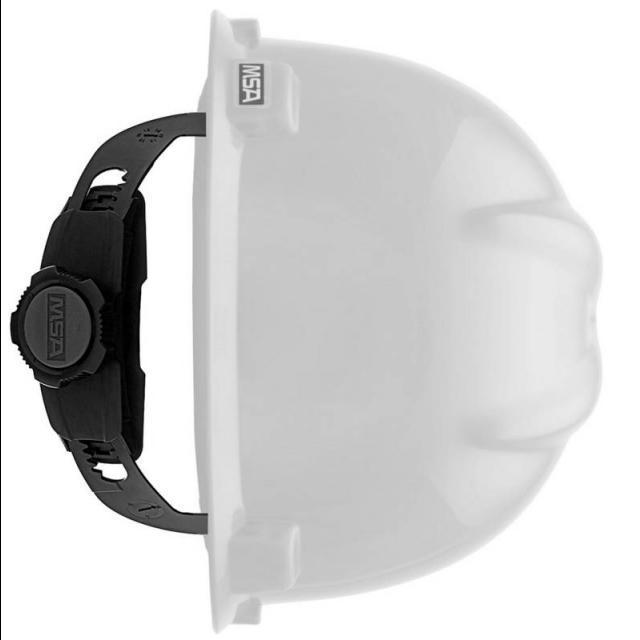safety_helmet: (10, 12, 603, 634)
